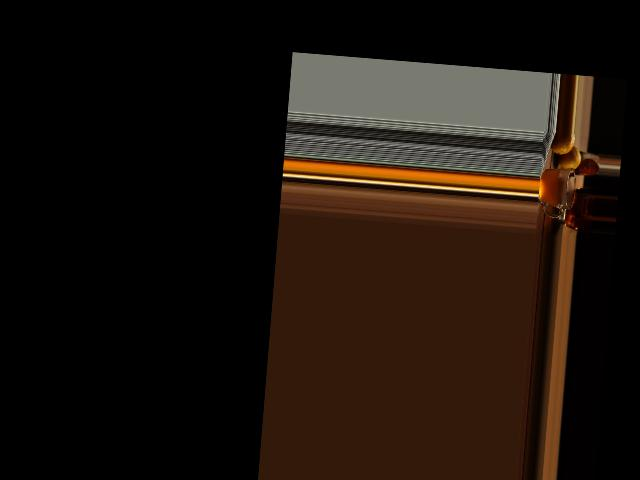lemon: (551, 133, 572, 152)
